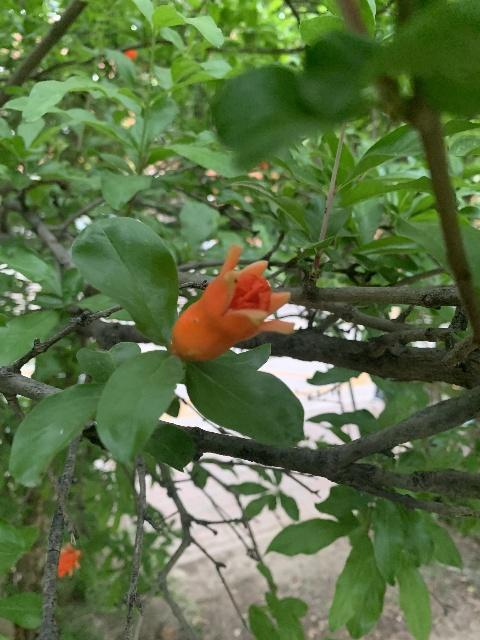flower: (172, 243, 294, 363), (57, 543, 82, 577)
